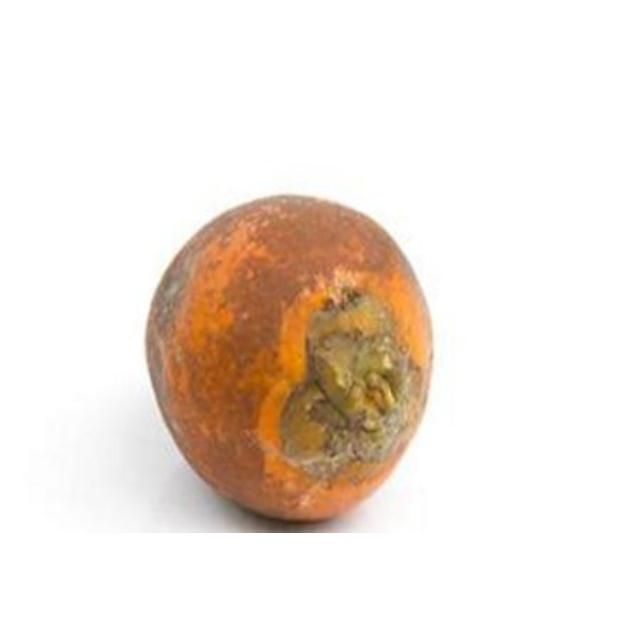damaged: (144, 195, 435, 525)
